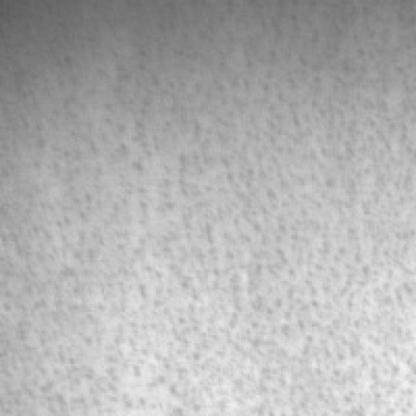pitted_surface: (48, 75, 414, 408)
